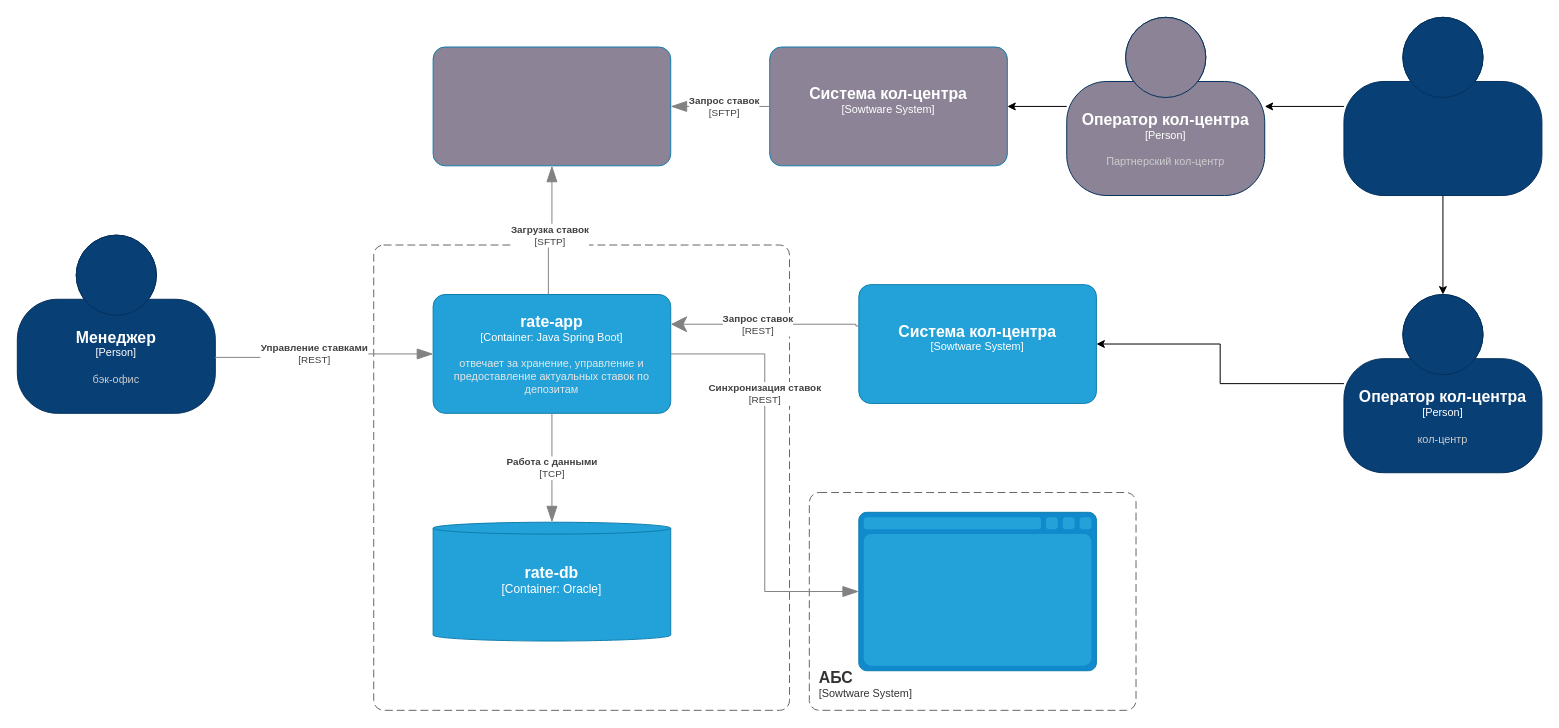
Image size: 1559x728. Some labels were removed from this diagram. Here are the shapes that lost their labels. From the top down, the box of each, then its label:
(432, 46, 671, 166): SFTP сервер [Sowtware System]
(1343, 16, 1542, 196): Клиент [Person] Клиент
(373, 244, 790, 710): Интернет-банк [Sowtware System]
(858, 511, 1096, 671): abs-app [Container: Delphi] Веб-приложение
